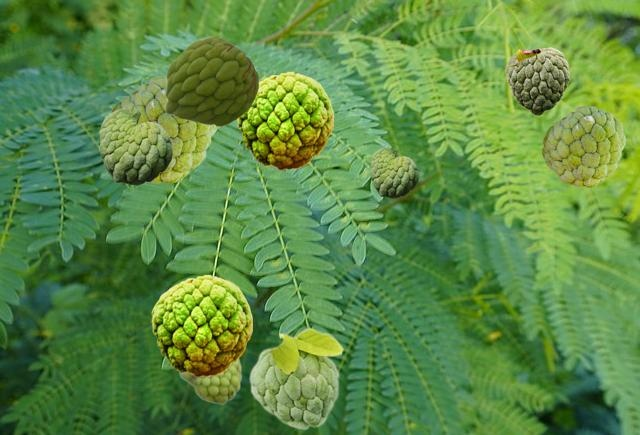atis: (111, 76, 215, 182), (151, 274, 251, 376), (248, 327, 343, 429), (237, 71, 332, 169), (165, 36, 257, 125), (542, 106, 624, 186), (99, 108, 171, 184), (505, 47, 568, 114), (179, 359, 241, 404), (370, 147, 417, 197)
